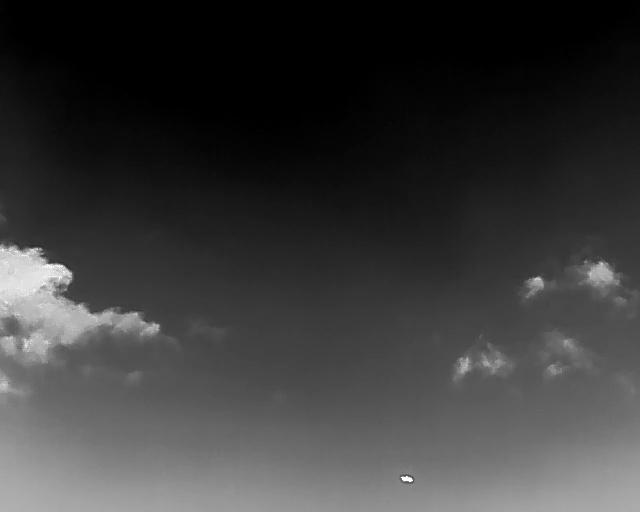fpv-drone: (399, 474, 414, 484)
